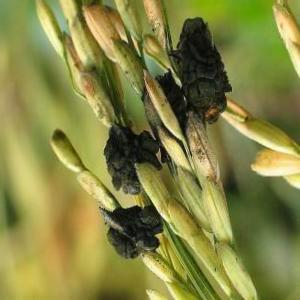Leaf_Scald: (171, 22, 231, 116), (102, 122, 152, 195), (104, 211, 162, 261)
